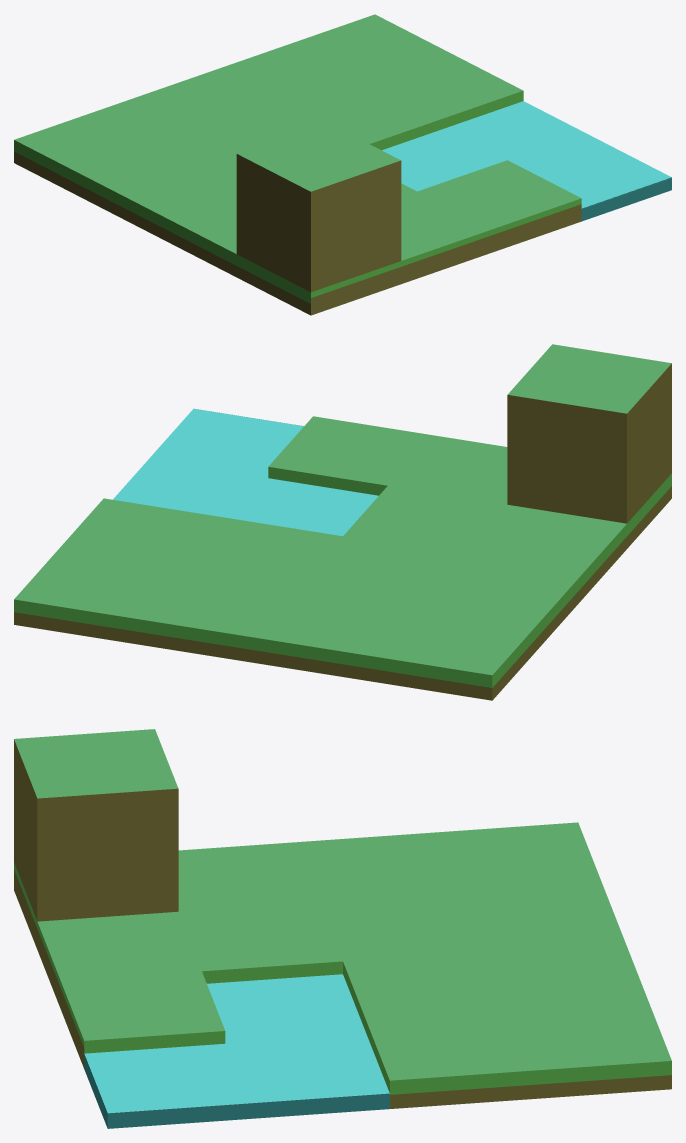
Rendered from firstTry.glb.
The picture shows the model from 3 angles, top to bottom: view 1: azimuth 30°, elevation 25°; view 2: azimuth 150°, elevation 25°; view 3: azimuth 270°, elevation 25°; orthographic projection. The views are drawn at different scales.
Parts seen in each view (by area): view 1: Cube; view 2: Cube; view 3: Cube.
Boxes of the visible parts, x1,y1,x2,y2 form: Cube: (14, 14, 671, 315); Cube: (14, 344, 671, 700); Cube: (14, 729, 671, 1128).
Bounding box in the file's own units: 7.63 × 1.94 × 7.63.
